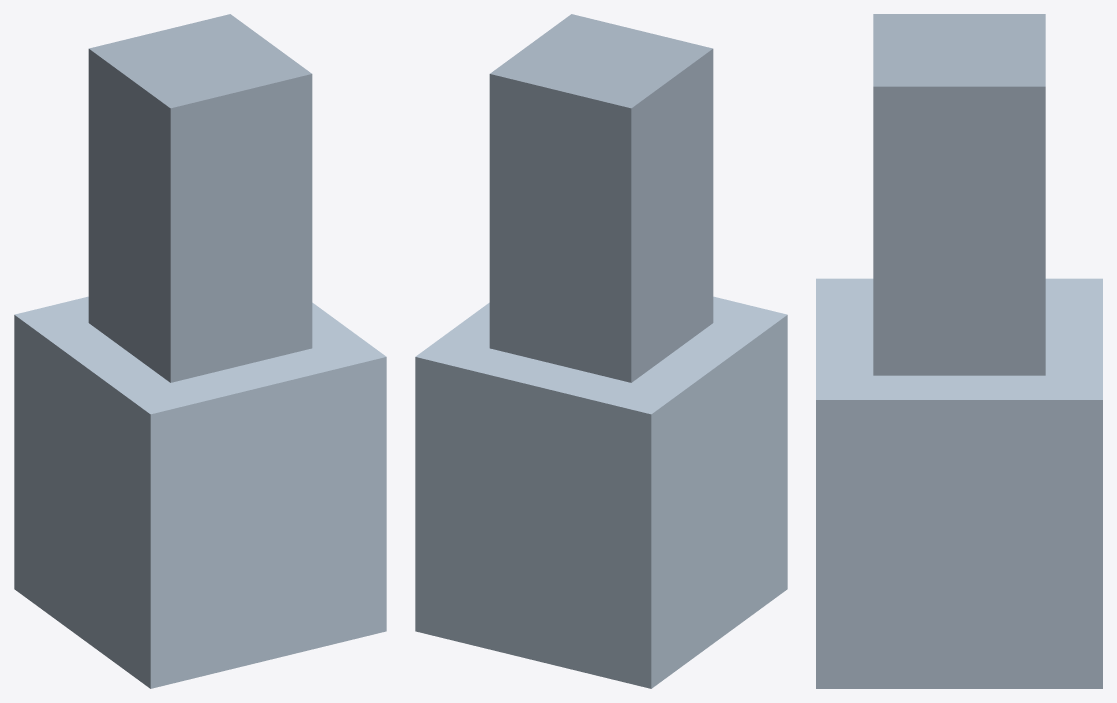
The model's file is shower-cabinet.glb.
3 renders of one model, left to right at view 1: azimuth 30°, elevation 25°; view 2: azimuth 150°, elevation 25°; view 3: azimuth 270°, elevation 25°, orthographic. The views are drawn at different scales.
Size of the model in its own units: 90 by 200 by 90.
